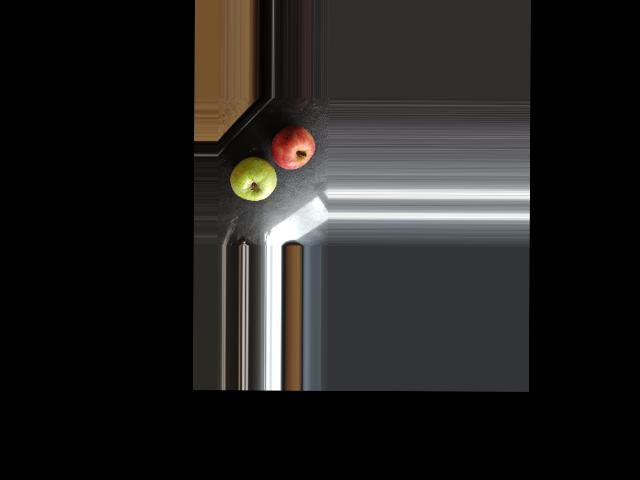apple: (273, 123, 317, 171)
